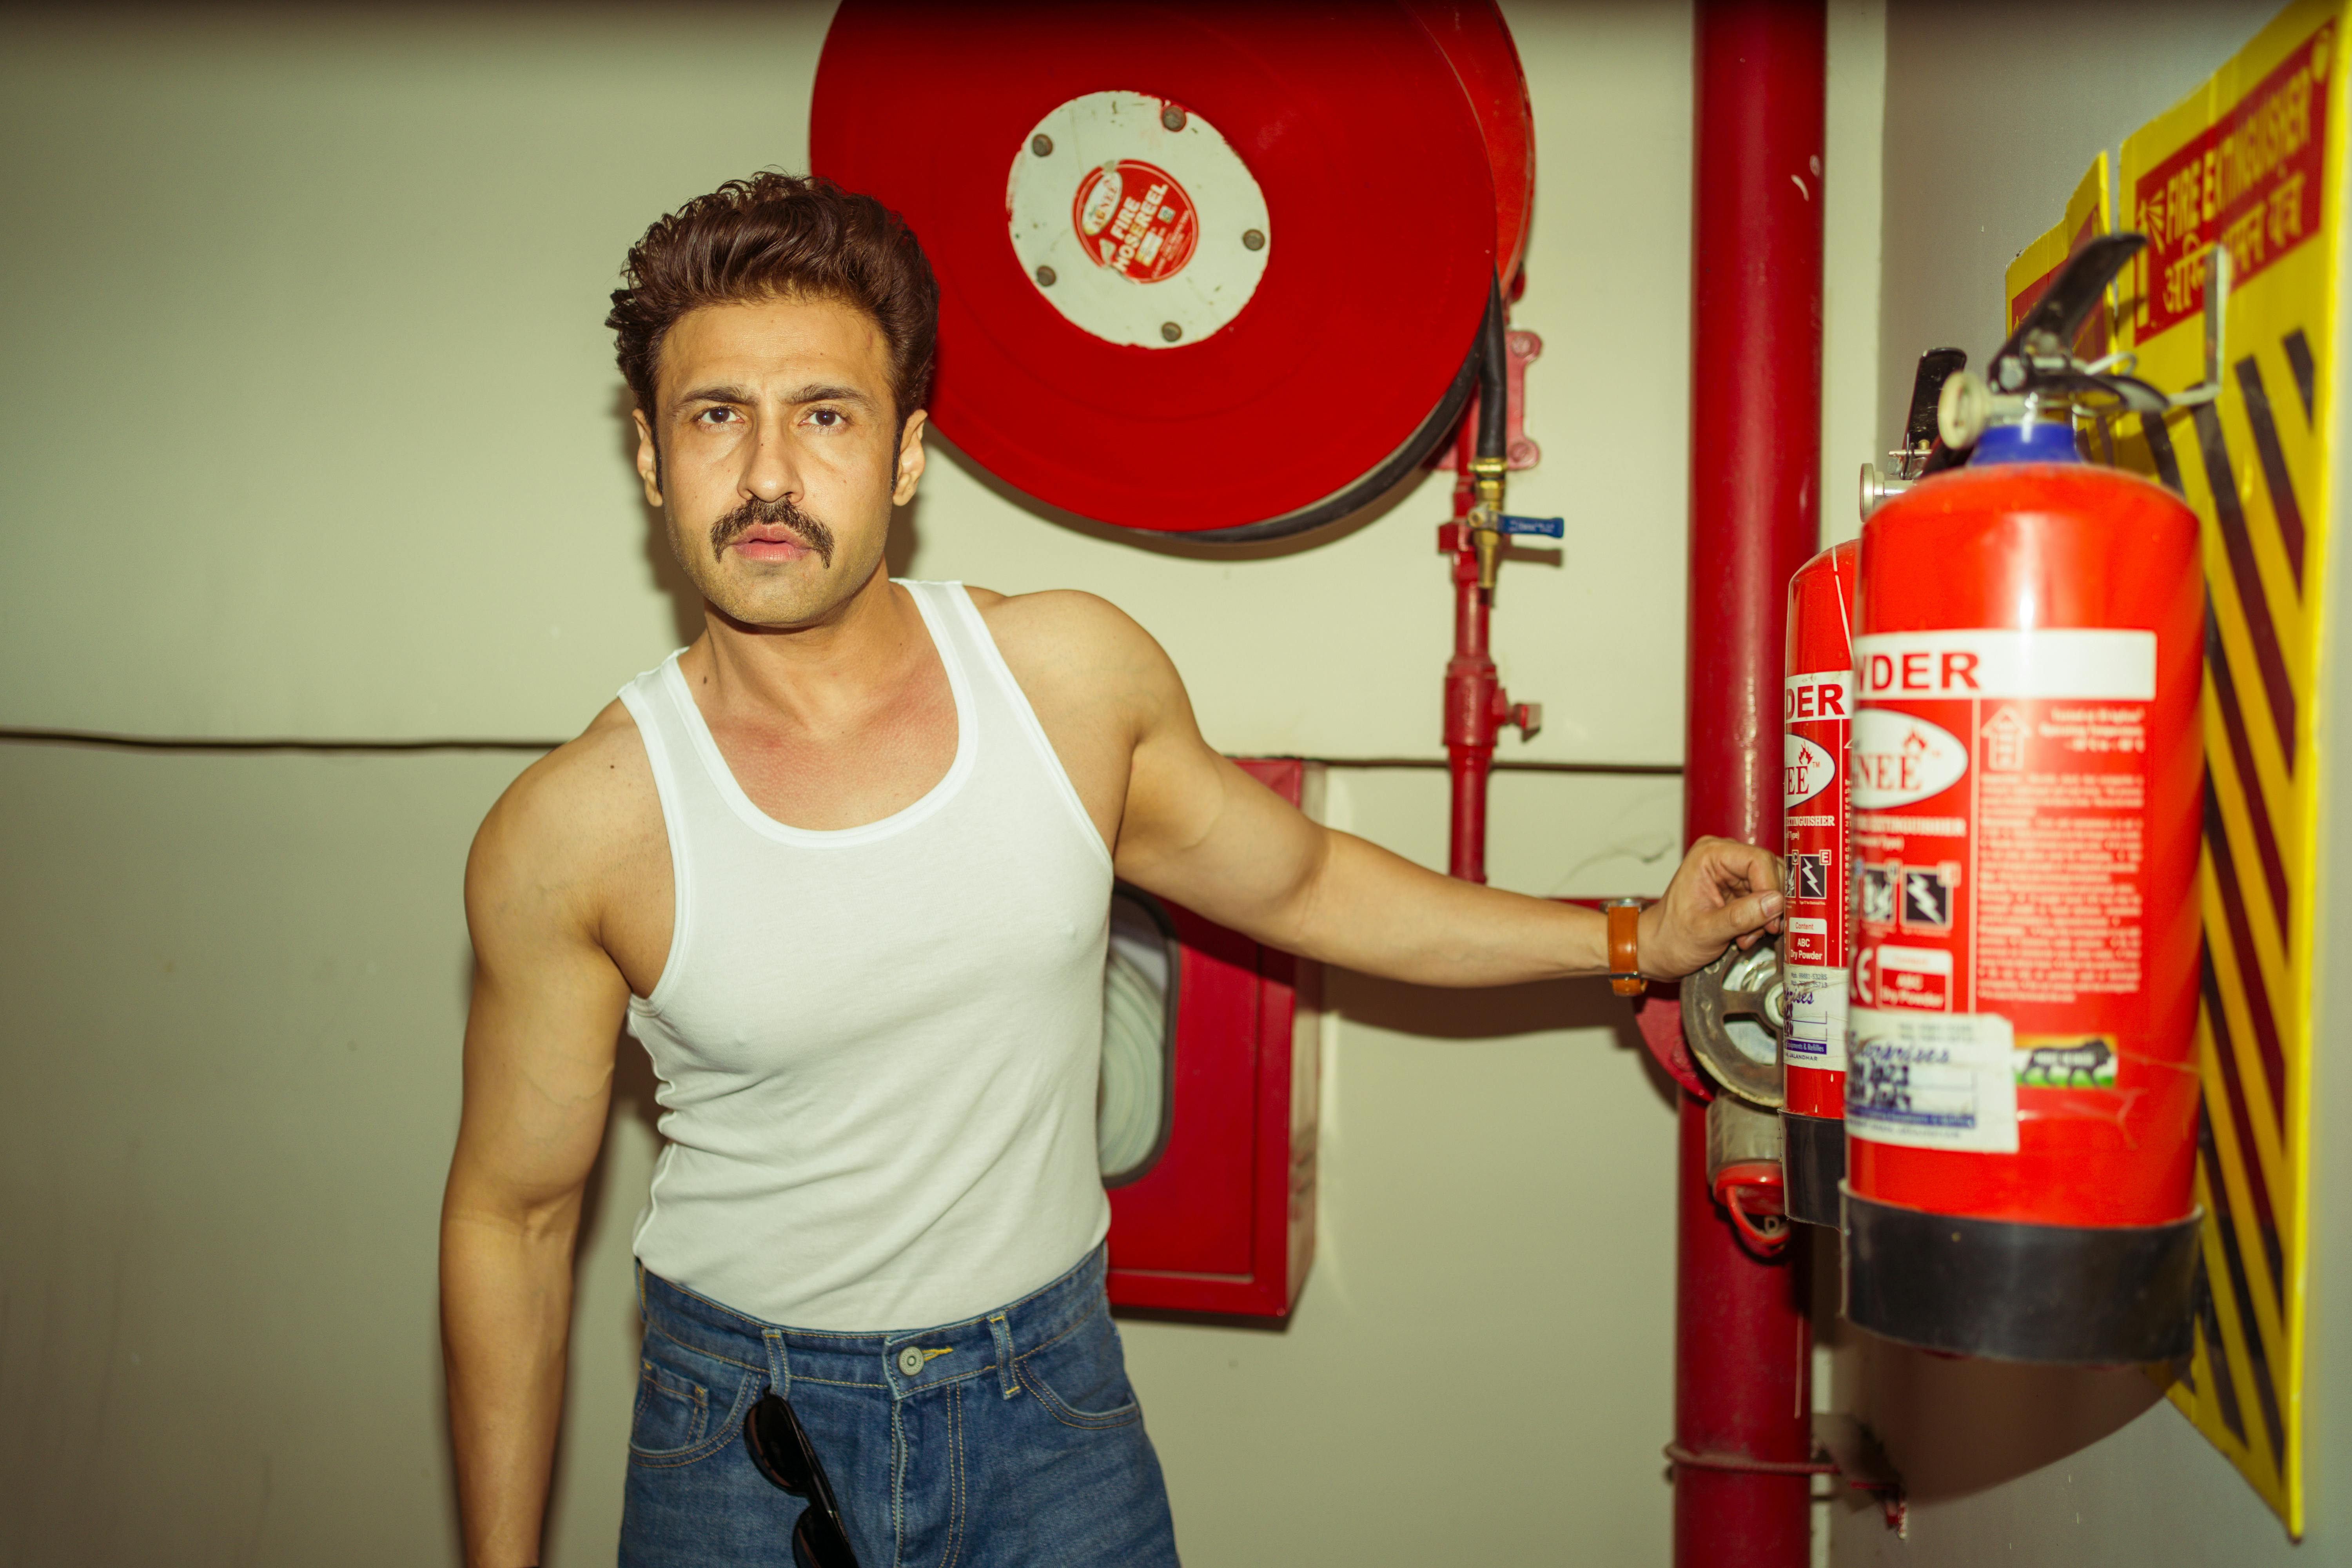extintor: (1845, 231, 2208, 1374), (1780, 338, 1971, 1235)
